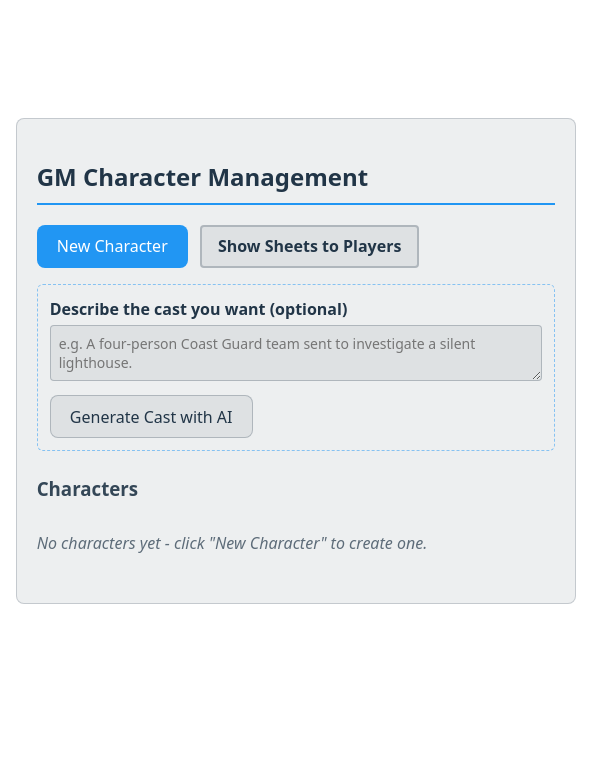
CastAiGenerator (via CharacterSheet) › lets a follow-up refine the whole drafted batch
Check: the field with placeholder "more paranoid" is not shown
Click the button "Generate Cast with AI" at coordinates (151, 416), box [50,395,253,438]
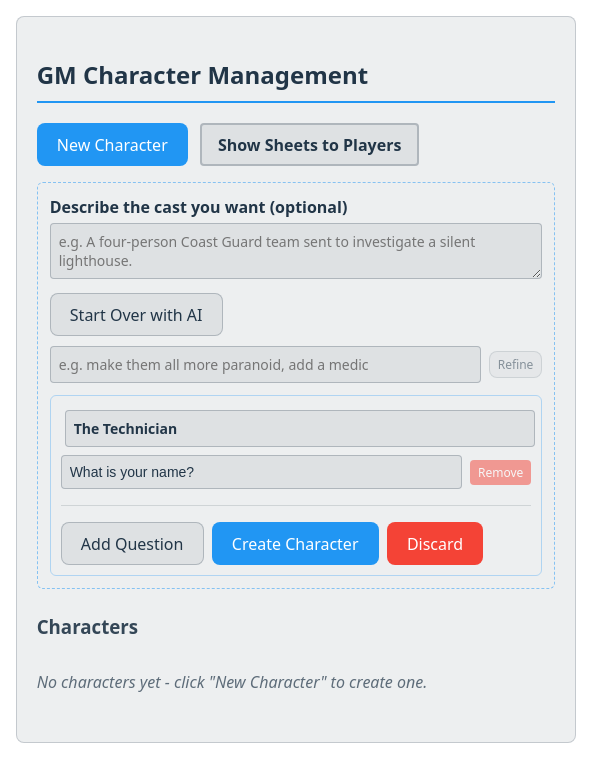
Check: the 1st field showing "The Technician" is shown, box [65,410,535,447]
Type "make them more paranoid" into the field with placeholder "e.g. make them all more paranoid, add a medic" at coordinates (265, 365), box [50,346,481,383]
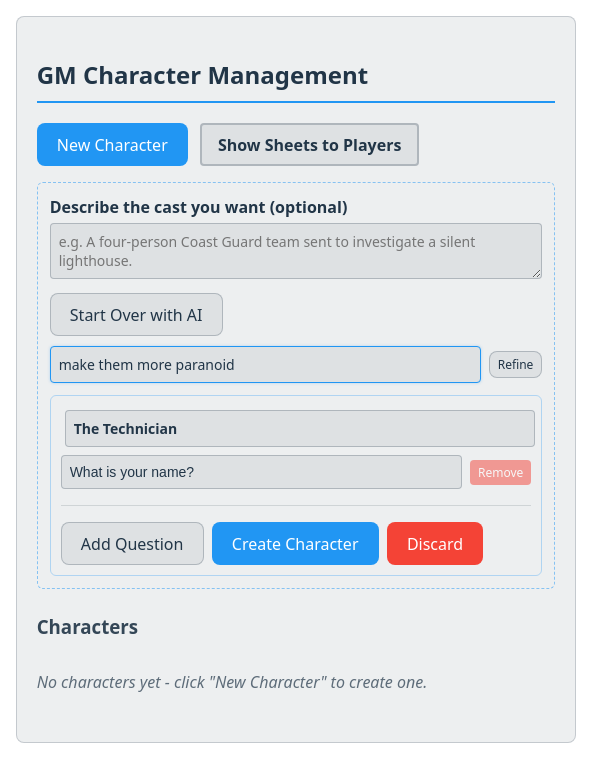
Click the button "Refine" at coordinates (516, 365), box [489,351,542,378]
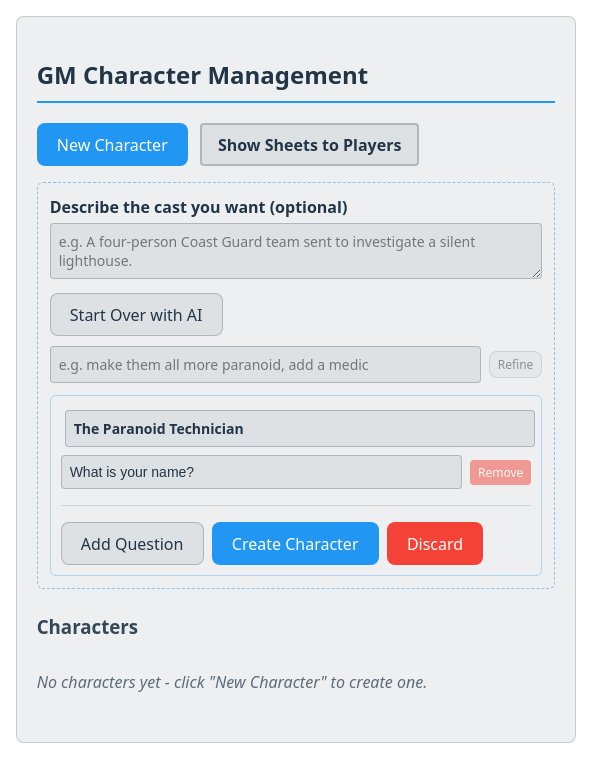
Check: the 1st field showing "The Paranoid Technician" is shown, box [65,410,535,447]
